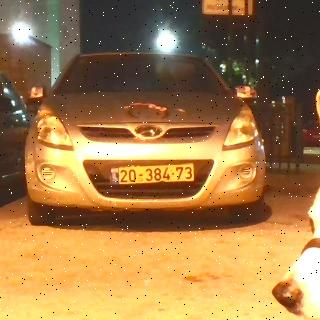LicensePlate: (119, 164, 194, 185)
